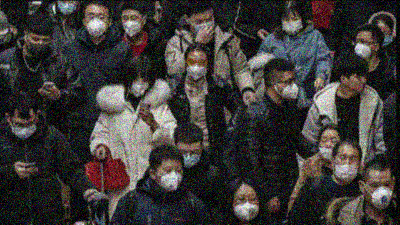mask_weared_incorrect: (317, 132, 340, 162)
with_mask: (361, 177, 392, 209), (331, 152, 360, 183), (153, 164, 183, 193), (231, 191, 258, 221), (82, 10, 110, 38), (8, 116, 38, 141), (183, 55, 208, 80), (187, 13, 214, 36), (24, 34, 51, 57), (274, 74, 297, 100), (128, 73, 150, 98), (119, 13, 143, 35), (351, 36, 373, 59), (177, 146, 200, 168), (279, 15, 303, 34), (377, 28, 394, 46), (55, 1, 76, 15)
without_mask: (345, 71, 366, 92)
